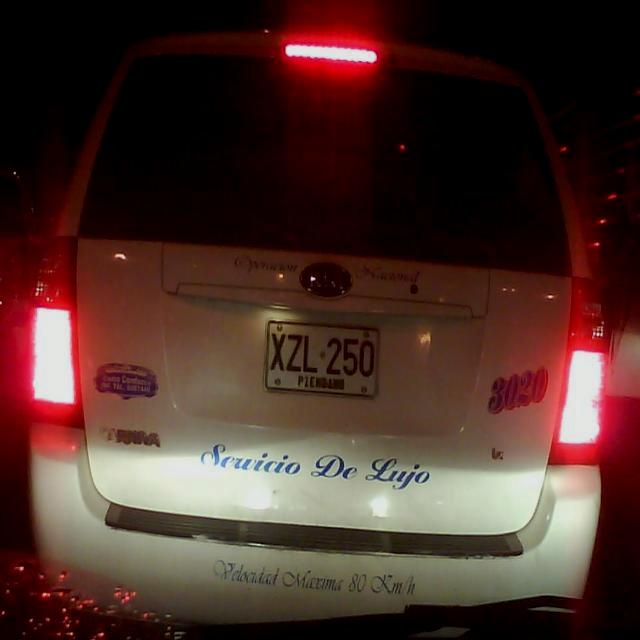placa: (260, 314, 382, 403)
